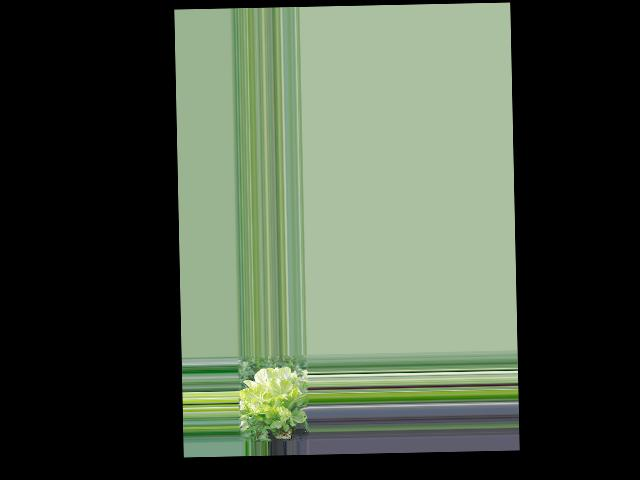lettuce: (245, 367, 306, 427)
